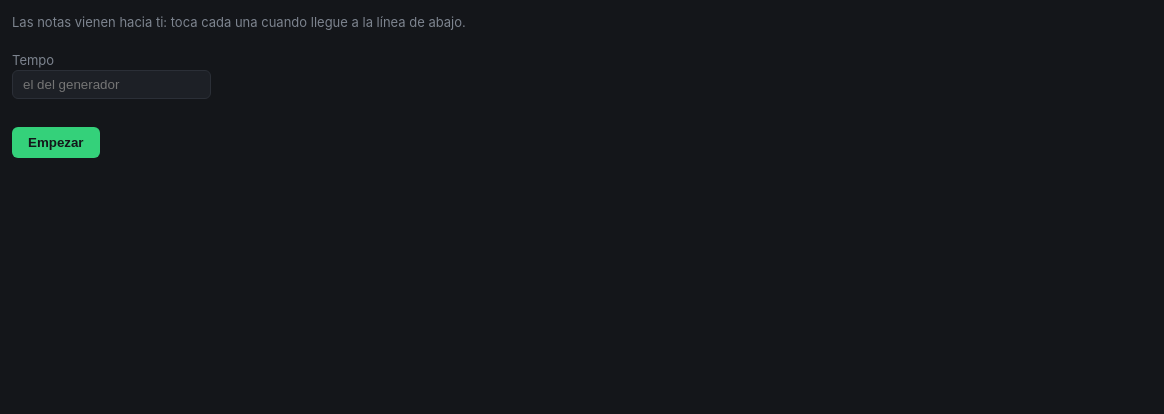
Test case: Carril › una nota de acorde sin desfase no imprime un desfase de cero
Click the button "Empezar".
click(56, 142)  # box [12,127,100,158]
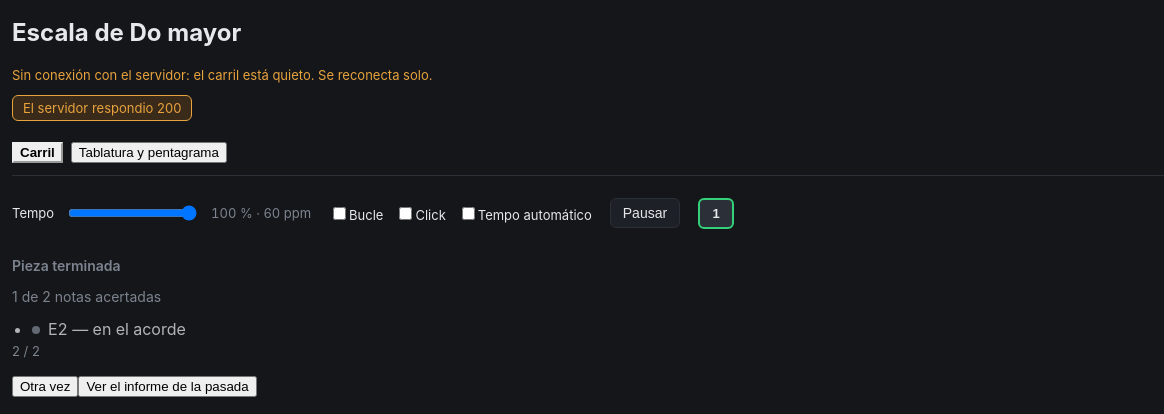
Result: the list item "E2 — en el acorde" is shown at [32,319,186,339]
